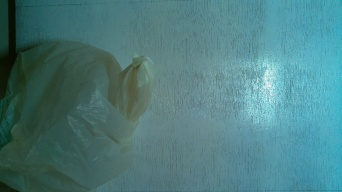f: (7, 35, 156, 189)
